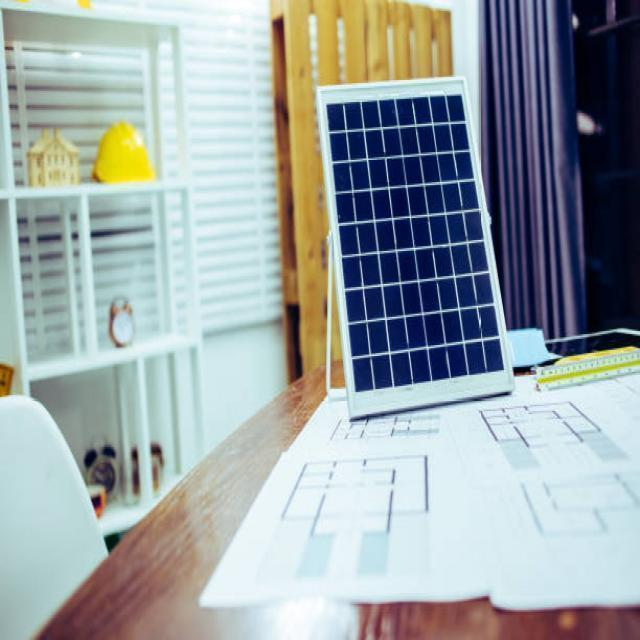Normal Solar Panel: (323, 80, 512, 416)
